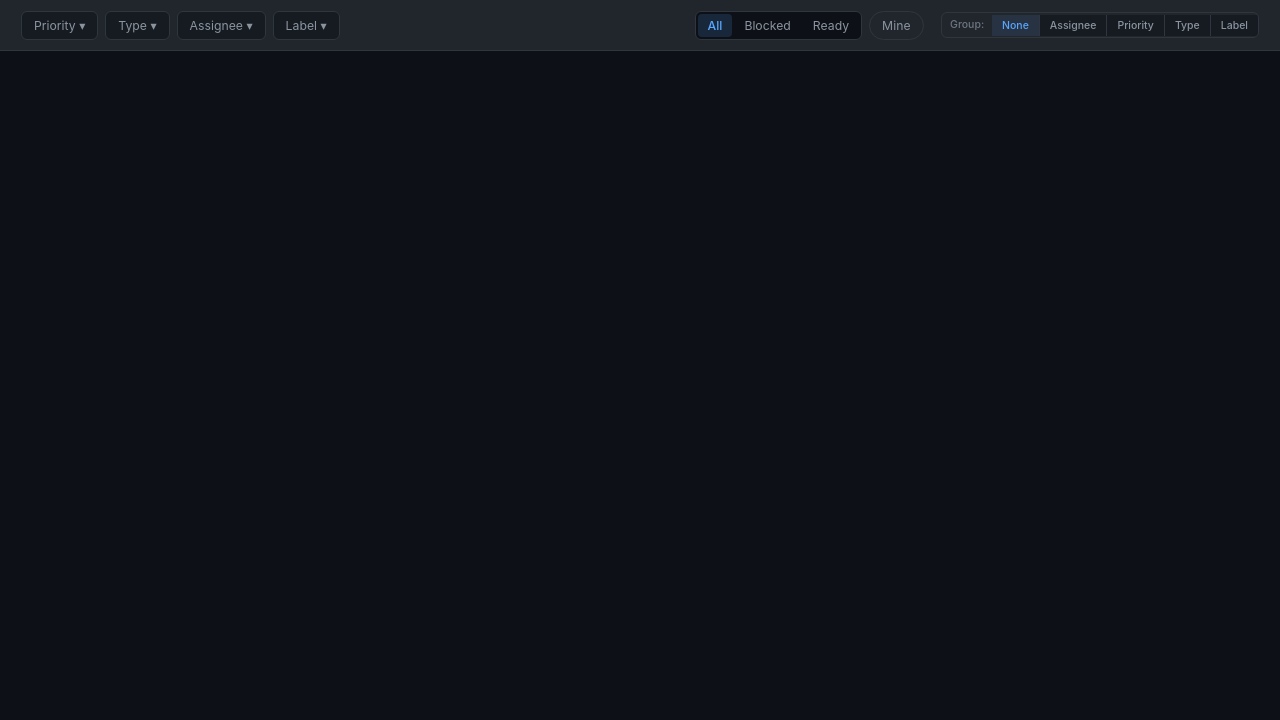
FilterBar › closes dropdown on click outside
Click the button with class "filter-btn" showing "Priority ▾".
click(60, 25)  # box [21,10,98,40]
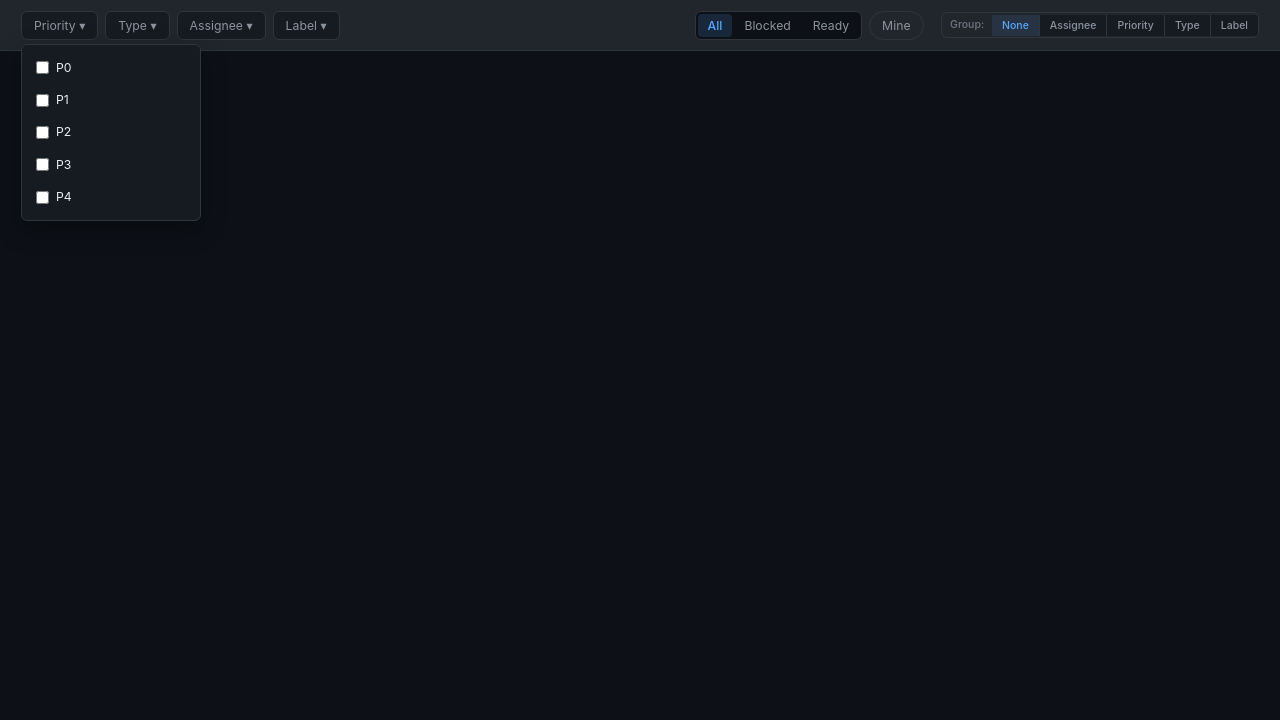
Expected: the text "P0" is shown, [56,58,72,77]
Press the mouse on the element that starts with "Priority" at point(640, 360), box [0,0,1279,719]
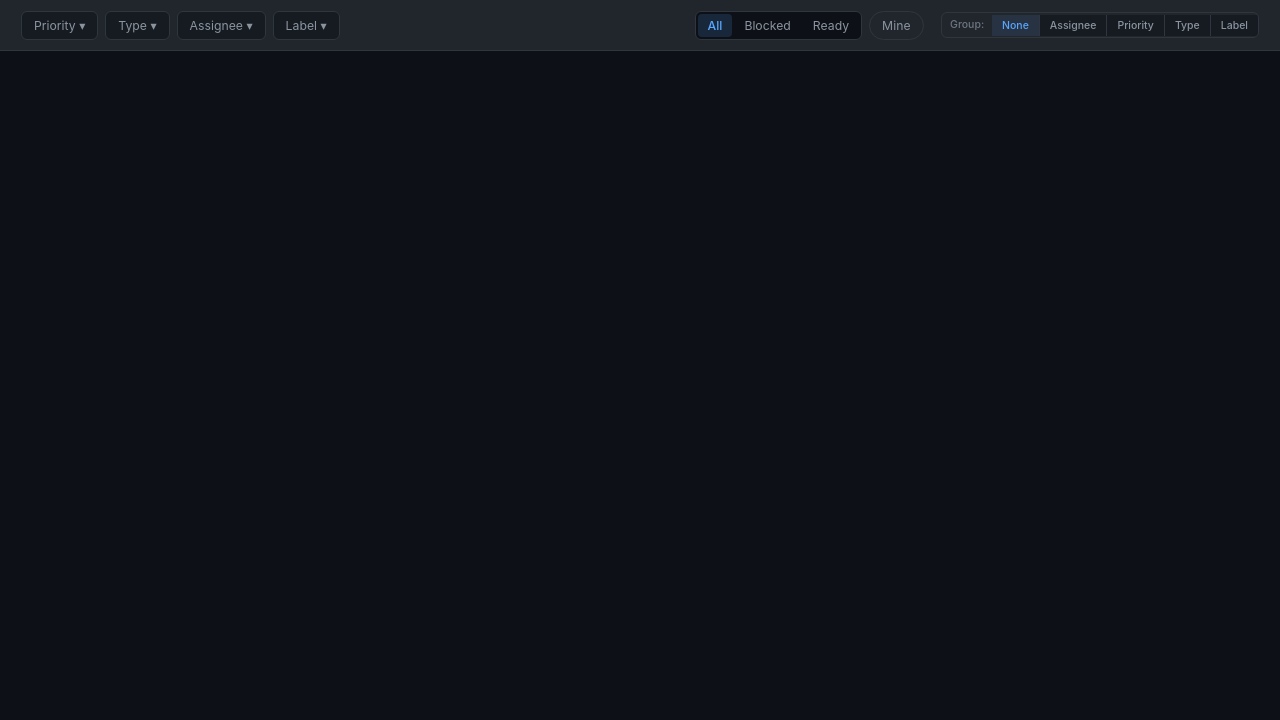
Expected: the text "P0" is gone
